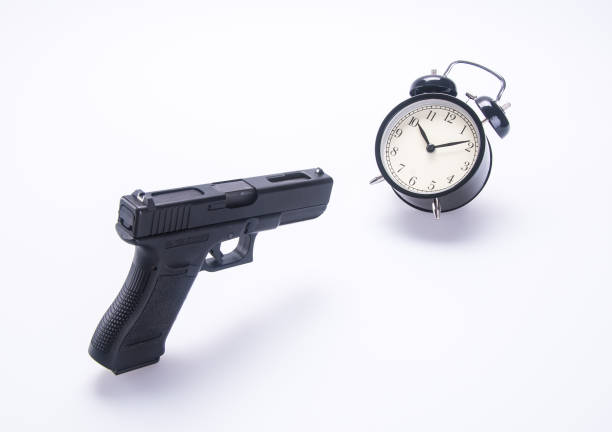pistol: (87, 163, 340, 381)
